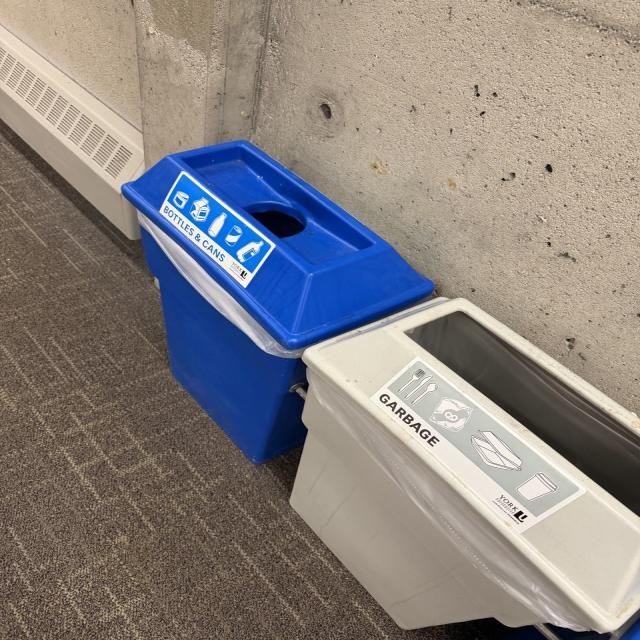Dustbin: (119, 141, 640, 636)
